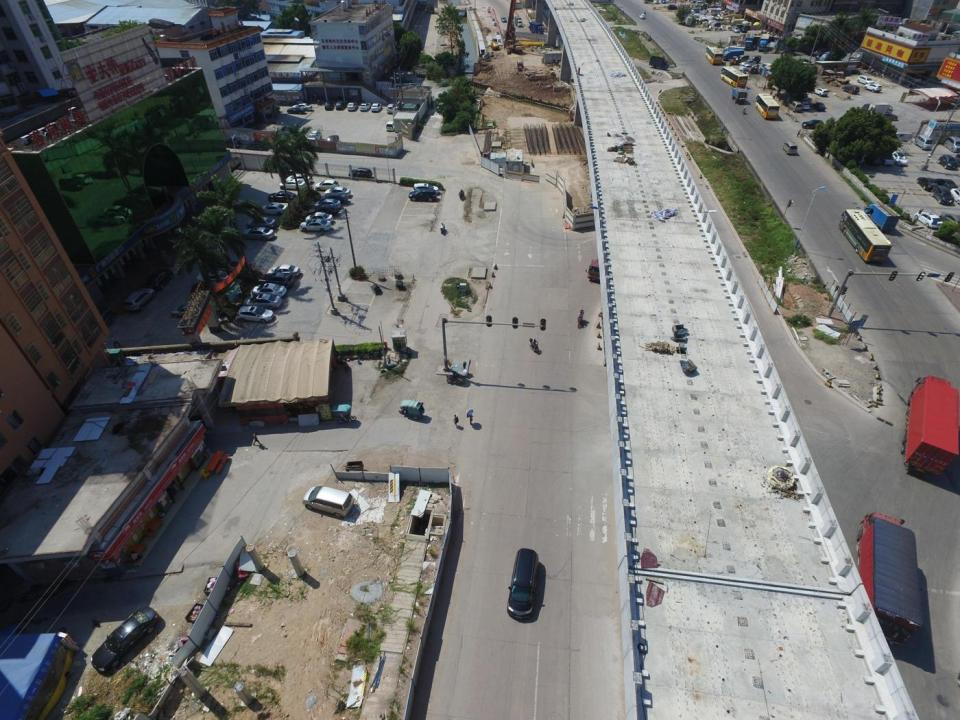bus: (838, 208, 892, 264), (754, 93, 780, 118), (720, 67, 747, 87), (704, 44, 722, 65)
car: (91, 605, 158, 677), (126, 286, 154, 312), (915, 208, 943, 229), (244, 292, 283, 307), (237, 306, 275, 321), (171, 302, 207, 316), (258, 273, 293, 287), (150, 269, 172, 291), (250, 283, 287, 296), (196, 272, 239, 283), (931, 185, 955, 204), (409, 187, 436, 202), (299, 220, 332, 232), (267, 264, 300, 276), (206, 261, 241, 272), (243, 227, 275, 239), (246, 215, 275, 227), (279, 179, 307, 191), (937, 154, 958, 170), (314, 179, 340, 191), (917, 177, 939, 191), (308, 205, 338, 215), (304, 211, 332, 221), (268, 191, 296, 201), (936, 179, 957, 192), (892, 151, 909, 167), (285, 174, 312, 184), (941, 213, 960, 227), (412, 184, 438, 194), (261, 203, 287, 213), (348, 168, 373, 178), (305, 129, 322, 143), (325, 187, 351, 196), (315, 199, 341, 208), (219, 139, 241, 149), (321, 194, 348, 202), (246, 141, 270, 150), (802, 120, 824, 129), (857, 75, 874, 86), (864, 83, 882, 93), (291, 102, 313, 110), (881, 151, 894, 164), (870, 152, 881, 167), (949, 188, 960, 203), (287, 106, 305, 114), (842, 86, 859, 94), (813, 87, 828, 96), (326, 134, 338, 145), (814, 102, 826, 112), (371, 103, 383, 112), (738, 64, 751, 72), (347, 102, 357, 112), (359, 103, 370, 112), (740, 60, 756, 66), (799, 59, 812, 66), (801, 102, 810, 111), (325, 102, 334, 110), (336, 101, 344, 110), (667, 3, 676, 9), (638, 14, 646, 20), (732, 26, 740, 32), (501, 17, 506, 22), (662, 0, 666, 3)
truck: (851, 512, 923, 648), (504, 38, 523, 52), (490, 39, 500, 51)
van: (900, 375, 960, 477), (507, 548, 538, 619), (302, 485, 354, 518), (863, 202, 898, 232), (585, 249, 615, 280), (819, 50, 845, 64), (914, 134, 934, 151), (868, 102, 894, 115), (732, 87, 748, 105), (648, 56, 669, 69), (944, 136, 960, 153), (721, 49, 745, 60), (782, 141, 799, 155), (528, 21, 544, 34), (744, 31, 755, 49), (758, 33, 769, 51), (731, 55, 749, 64), (723, 46, 746, 53), (787, 101, 803, 111), (683, 16, 693, 27), (386, 121, 395, 132), (515, 16, 524, 27), (387, 103, 395, 114), (750, 56, 761, 63), (741, 26, 750, 33), (696, 1, 704, 6), (653, 0, 659, 4)
